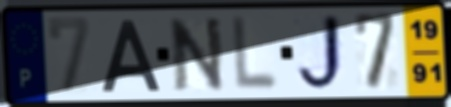7: (44, 14, 98, 98), (350, 11, 399, 94)
A: (98, 17, 163, 94)
J: (294, 11, 349, 95)
L: (231, 13, 280, 94)
N: (166, 14, 227, 94)
